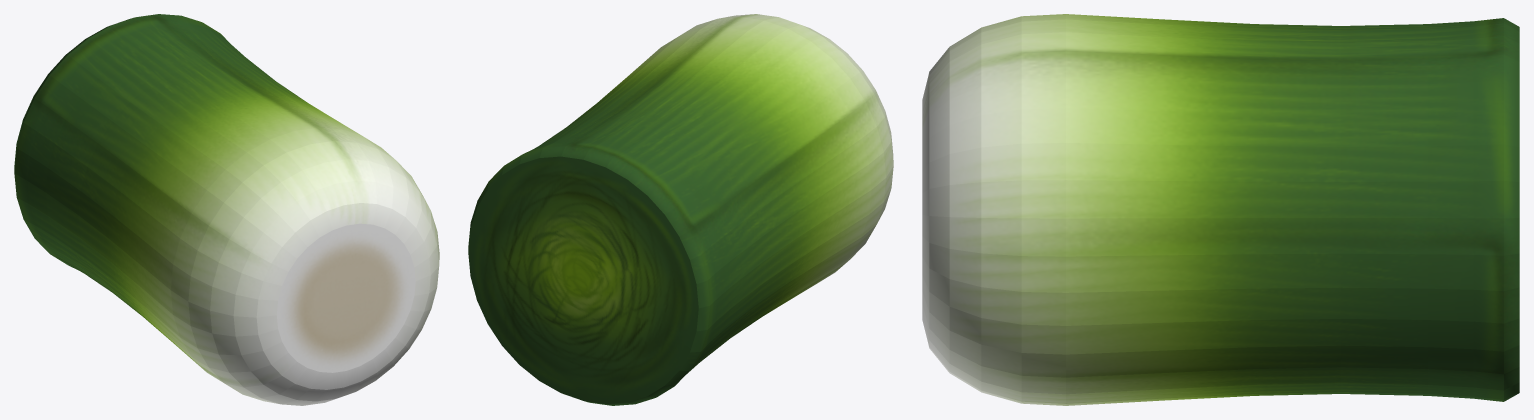
Rendered from leek.fbx.
The picture shows the model from 3 angles, left to right: view 1: azimuth 30°, elevation 25°; view 2: azimuth 150°, elevation 25°; view 3: azimuth 270°, elevation 25°; orthographic projection. The views are drawn at different scales.
Visible parts, largest first — view 1: Leek; view 2: Leek; view 3: Leek.
Part boxes in pixels (x1=…): Leek: x1=14, y1=14, x2=439, y2=405; Leek: x1=468, y1=14, x2=893, y2=405; Leek: x1=922, y1=14, x2=1519, y2=405.
Size of the model in its own units: 129 by 129 by 197.
